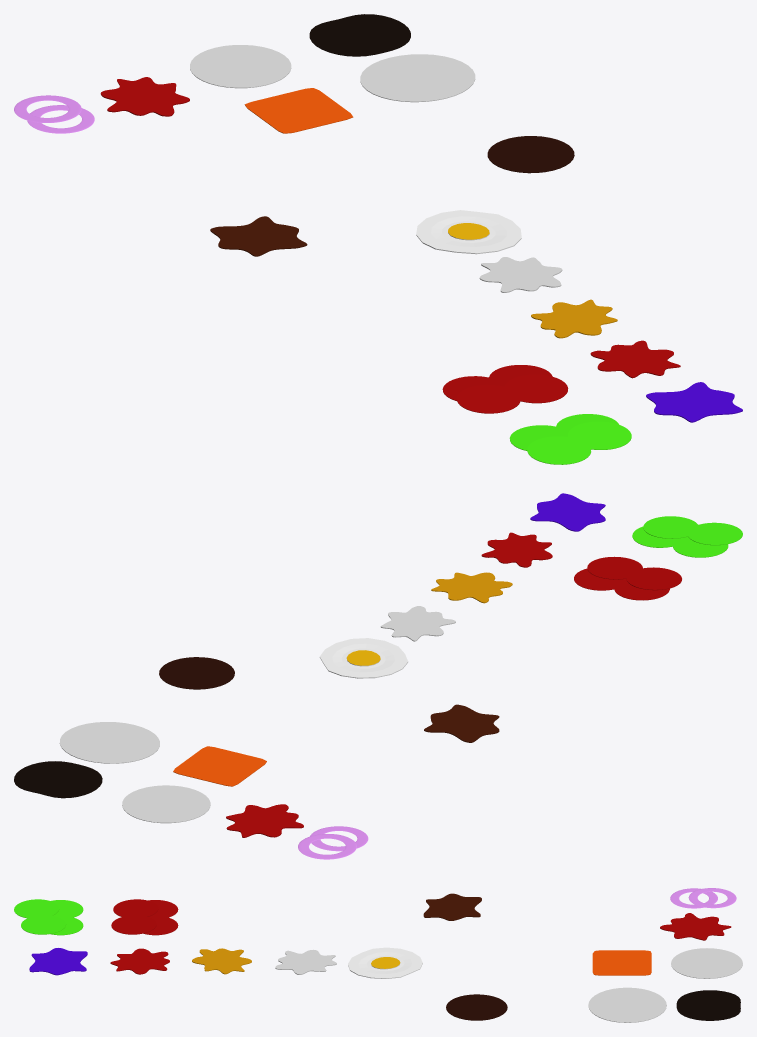
File: MakeSandwichIngredients.FBX
3 views of the same model, one above another, from view 1: azimuth 30°, elevation 25°; view 2: azimuth 150°, elevation 25°; view 3: azimuth 270°, elevation 25° (orthographic). The views are drawn at different scales.
Parts seen in each view (by area): view 1: WhiteCircle2, Pickles, Kiwis, Egg, WhiteCircle1, BrownCircle, Plane, Pastrami, BarbQ, Jelly, Lettuce2, Mayo (+3 smaller); view 2: WhiteCircle2, Pickles, Kiwis, Egg, WhiteCircle1, BrownCircle, Plane, Pastrami, Jelly, BarbQ, Lettuce2, Mustard (+3 smaller); view 3: WhiteCircle2, Kiwis, Pickles, Egg, WhiteCircle1, BrownCircle, Plane, Pastrami, Jelly, BarbQ, Lettuce2, Mustard (+3 smaller).
Boxes of the visible parts, <box> form: WhiteCircle2: <box>360,54,475,102</box>; Pickles: <box>442,365,568,413</box>; Kiwis: <box>509,414,631,464</box>; Egg: <box>416,210,521,254</box>; WhiteCircle1: <box>190,45,291,88</box>; BrownCircle: <box>309,14,410,56</box>; Plane: <box>244,88,353,133</box>; Pastrami: <box>487,136,574,173</box>; BarbQ: <box>210,216,307,256</box>; Jelly: <box>646,382,742,422</box>; Lettuce2: <box>100,77,189,116</box>; Mayo: <box>479,257,562,292</box>; WhiteCircle2: <box>59,722,159,763</box>; Pickles: <box>574,556,681,600</box>; Kiwis: <box>632,516,742,557</box>; Egg: <box>319,638,408,678</box>; WhiteCircle1: <box>122,785,210,823</box>; BrownCircle: <box>14,761,102,798</box>; Plane: <box>173,746,266,786</box>; Pastrami: <box>159,657,234,689</box>; Jelly: <box>530,493,605,531</box>; BarbQ: <box>424,704,499,742</box>; Lettuce2: <box>226,804,303,837</box>; Mustard: <box>431,572,512,603</box>; WhiteCircle2: <box>588,987,666,1022</box>; Kiwis: <box>14,899,83,935</box>; Pickles: <box>111,899,178,935</box>; Egg: <box>348,947,422,978</box>; WhiteCircle1: <box>671,948,742,978</box>; BrownCircle: <box>676,990,740,1020</box>; Plane: <box>592,950,651,975</box>; Pastrami: <box>446,994,507,1020</box>; Jelly: <box>29,948,87,975</box>; BarbQ: <box>423,893,481,920</box>; Lettuce2: <box>660,913,731,940</box>; Mustard: <box>192,948,251,974</box>.
Bounding box in the file's own units: 1.83 × 0.0117 × 4.19.
